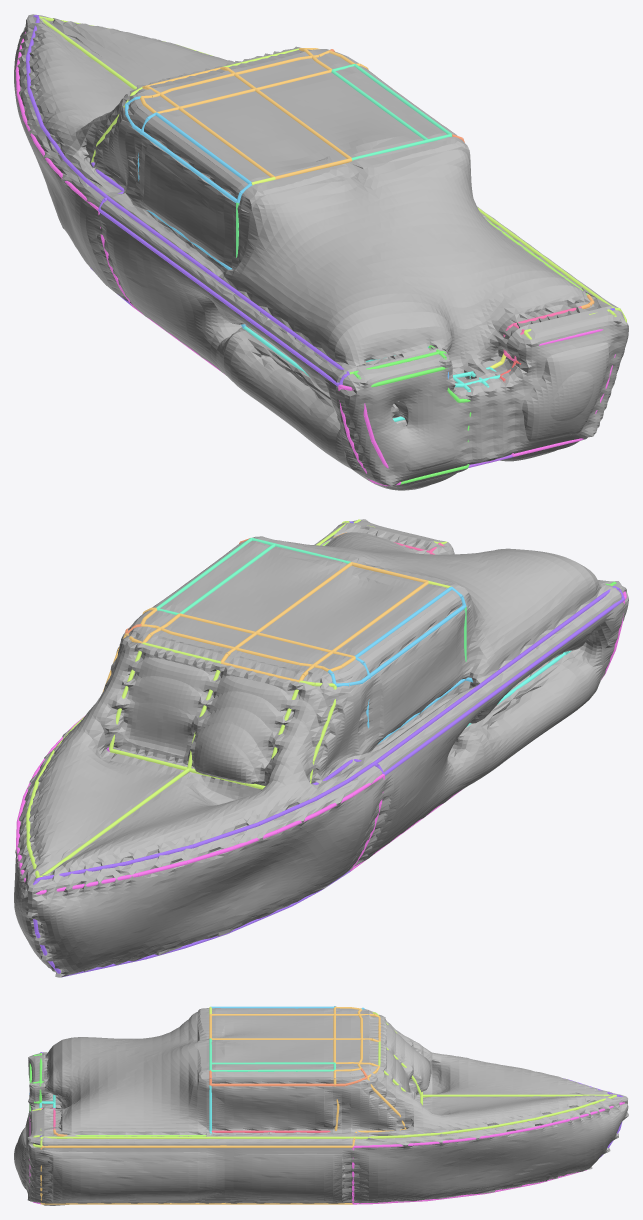
The model's file is flowrep_boat.gltf.
3 renders of one model, top to bottom at view 1: azimuth 30°, elevation 25°; view 2: azimuth 150°, elevation 25°; view 3: azimuth 270°, elevation 25°, orthographic. The views are drawn at different scales.
Bounding box in the file's own units: 0.3442 × 0.2664 × 0.9492.
